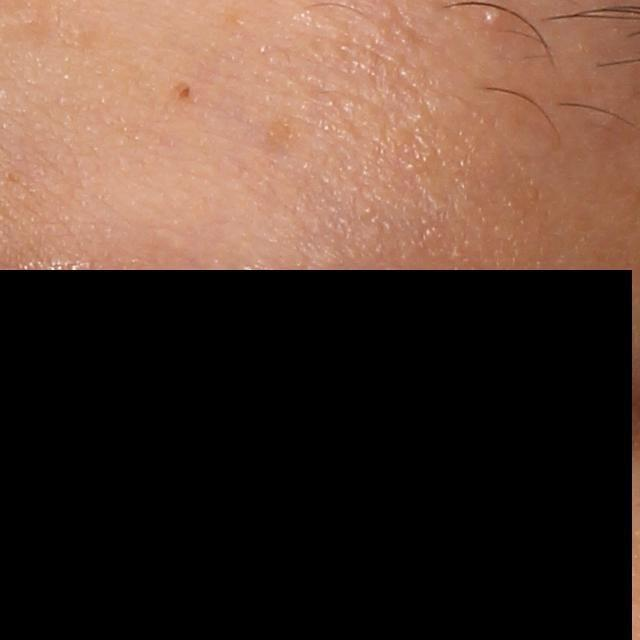melasma: (257, 115, 309, 154)
